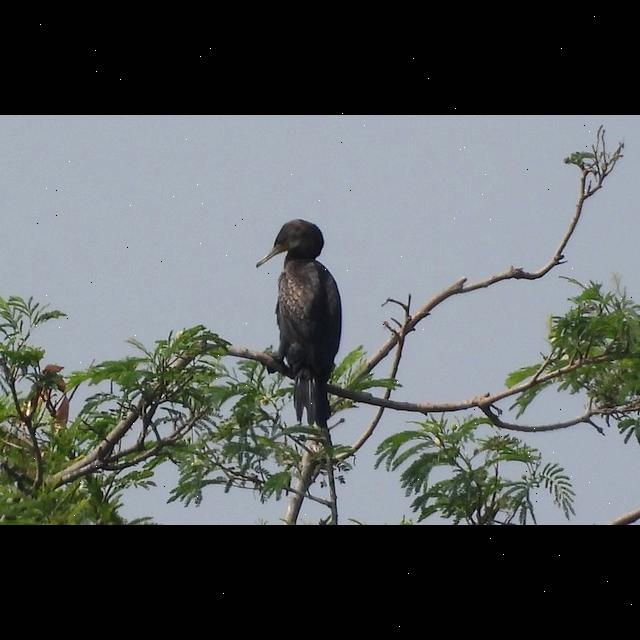cormorant: (251, 218, 349, 430)
